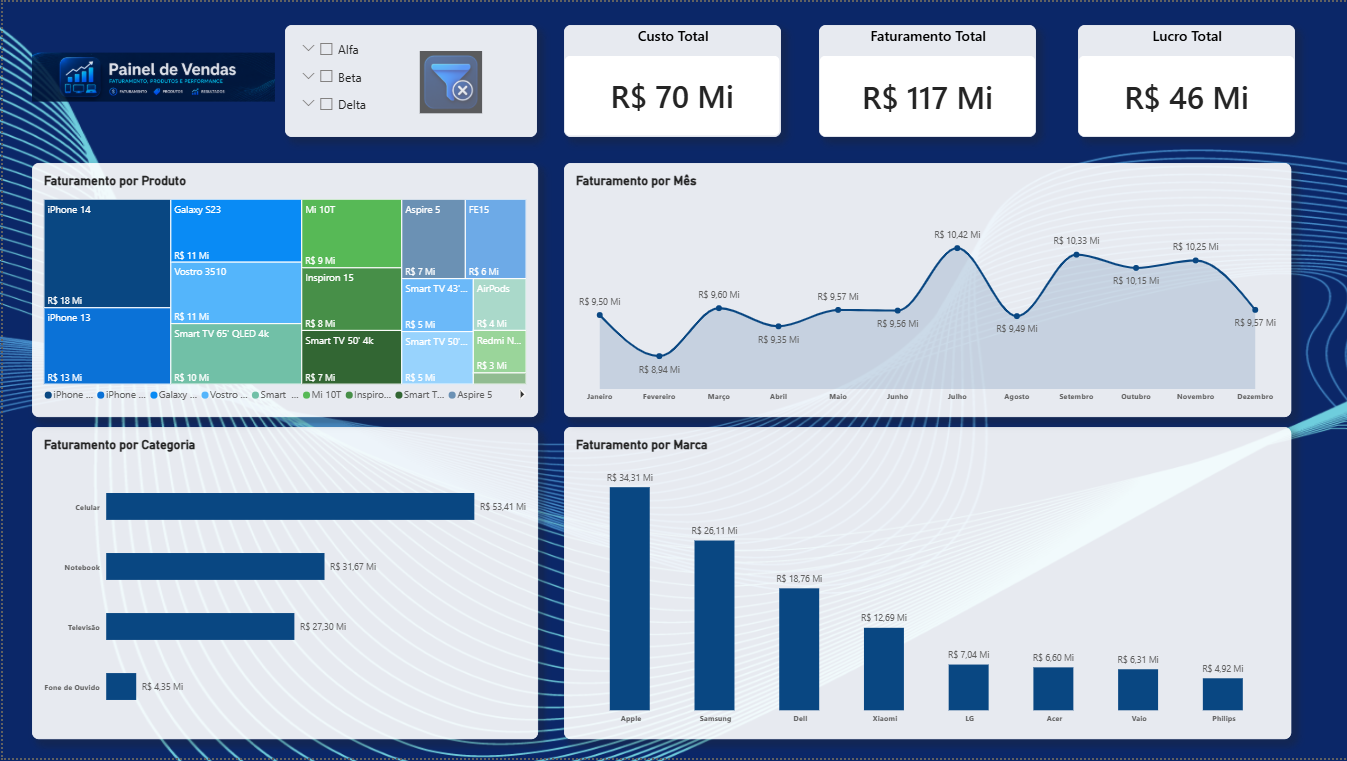

The dashboard page shown, as its layout file describes it:
{"tool":"powerbi","page":{"name":"Dashboard","canvas":[1920,1080],"ordinal":0},"visuals":[{"type":"cardVisual","title":"Custo Total","fields":{"Data":["Medidas.Custo Total"]},"box":[802,33.3,309.9,159.6],"z":0},{"type":"clusteredBarChart","title":"Faturamento por Categoria","fields":{"Category":["d_Produtos.CATEGORIA_PRODUTO","d_Produtos.PRODUTO"],"Y":["Medidas.Faturamento Total"]},"box":[41.4,607.1,722.9,445.7],"z":1000},{"type":"clusteredColumnChart","title":"Faturamento por Marca","fields":{"Category":["d_Produtos.MARCA_PRODUTO"],"Y":["Medidas.Faturamento Total"]},"box":[801.4,607.1,1038.6,445.7],"z":2000},{"type":"treemap","title":"Faturamento por Produto","fields":{"Group":["d_Produtos.PRODUTO"],"Values":["Medidas.Faturamento Total"]},"box":[41.4,230,722.9,362.9],"z":3000},{"type":"lineChart","title":"Faturamento por Mês","fields":{"Y":["Medidas.Faturamento Total"],"Category":["d_Calendário.NOME_MÊS"]},"box":[801.4,230,1038.6,362.9],"z":4000},{"type":"cardVisual","title":"Faturamento Total","fields":{"Data":["Medidas.Faturamento Total"]},"box":[1165.7,32.9,310,160],"z":5000},{"type":"cardVisual","title":"Lucro Total","fields":{"Data":["Medidas.Lucro Total"]},"box":[1535.7,32.9,310,160],"z":6000},{"type":"slicer","fields":{"Values":["d_Equipe.EQUIPE","d_Equipe.VENDEDOR"]},"box":[403,33.3,360.4,159.6],"z":7000},{"type":"image","box":[41.6,33.6,346.6,146.4],"z":8000},{"type":"image","box":[570.9,69.9,137,88.7],"z":9000}]}

Visuals, with their boxes in screenshot pixels (x1, y1, x2, y2), scaled from the page's 1920x1080 canvas onto the 1347x761 screenshot:
"Custo Total" cardVisual: bbox(563, 23, 780, 136)
"Faturamento por Categoria" clusteredBarChart: bbox(29, 428, 536, 742)
"Faturamento por Marca" clusteredColumnChart: bbox(562, 428, 1291, 742)
"Faturamento por Produto" treemap: bbox(29, 162, 536, 418)
"Faturamento por Mês" lineChart: bbox(562, 162, 1291, 418)
"Faturamento Total" cardVisual: bbox(818, 23, 1035, 136)
"Lucro Total" cardVisual: bbox(1077, 23, 1295, 136)
slicer - d_Equipe.EQUIPE x d_Equipe.VENDEDOR: bbox(283, 23, 536, 136)
image: bbox(29, 24, 272, 127)
image: bbox(401, 49, 497, 112)
